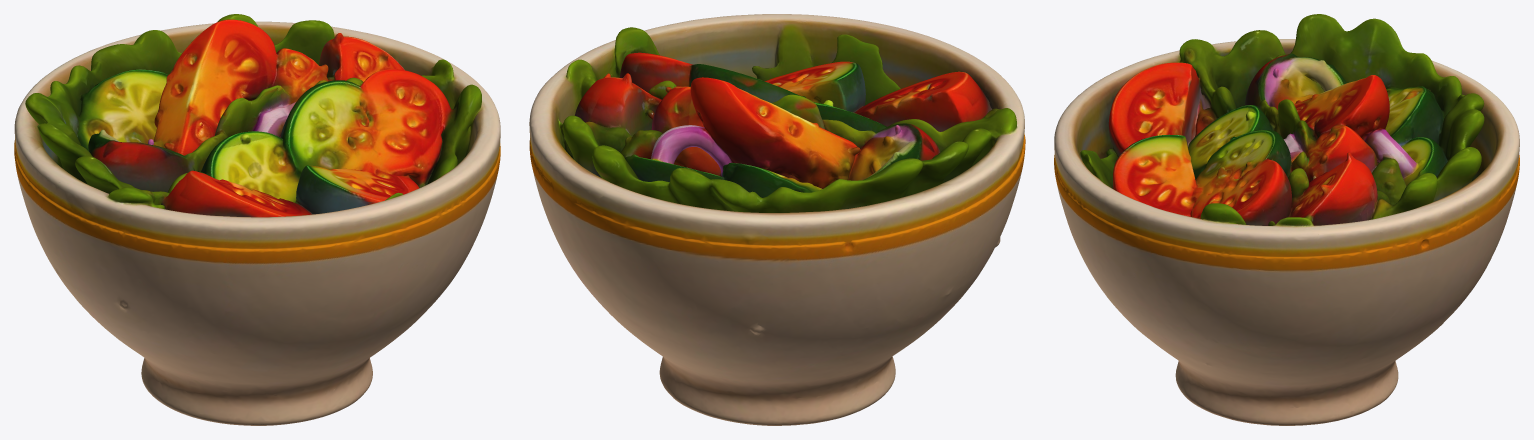
The model's file is tripo_convert_3151353c-e55d-489b-9b15-cb031bfc7e3d.fbx.
The picture shows the model from 3 angles, left to right: view 1: azimuth 30°, elevation 25°; view 2: azimuth 150°, elevation 25°; view 3: azimuth 270°, elevation 25°; orthographic projection. The views are drawn at different scales.
Parts seen in each view (by area): view 1: tripo_node_3151353c; view 2: tripo_node_3151353c; view 3: tripo_node_3151353c.
Boxes of the visible parts, x1,y1,x2,y2 form: tripo_node_3151353c: [14, 14, 500, 425]; tripo_node_3151353c: [529, 14, 1025, 425]; tripo_node_3151353c: [1054, 14, 1519, 425].
Bounding box in the file's own units: 0.9999 × 0.731 × 0.9974.
